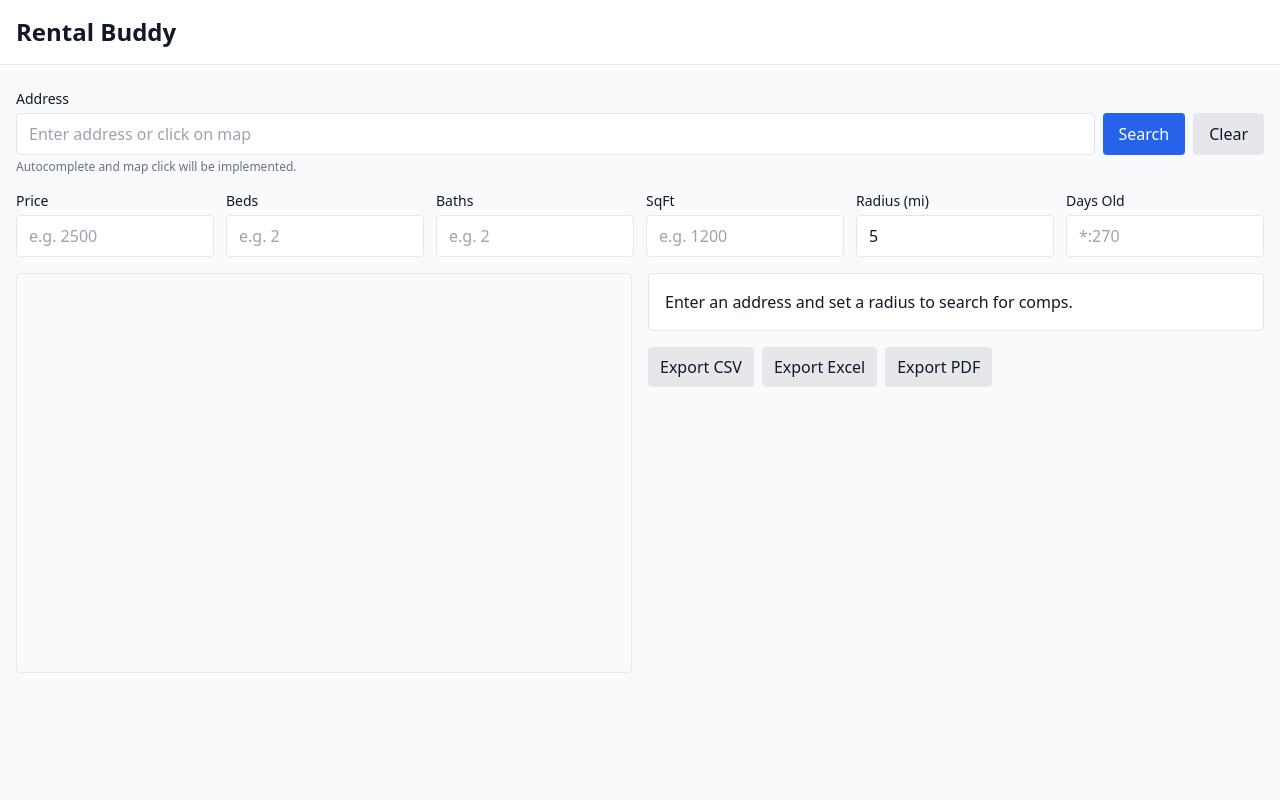
Test: shows empty state when API returns no comps
Type "nowhere" into the field labelled "Address" at [555, 134], box [16,113,1094,155]
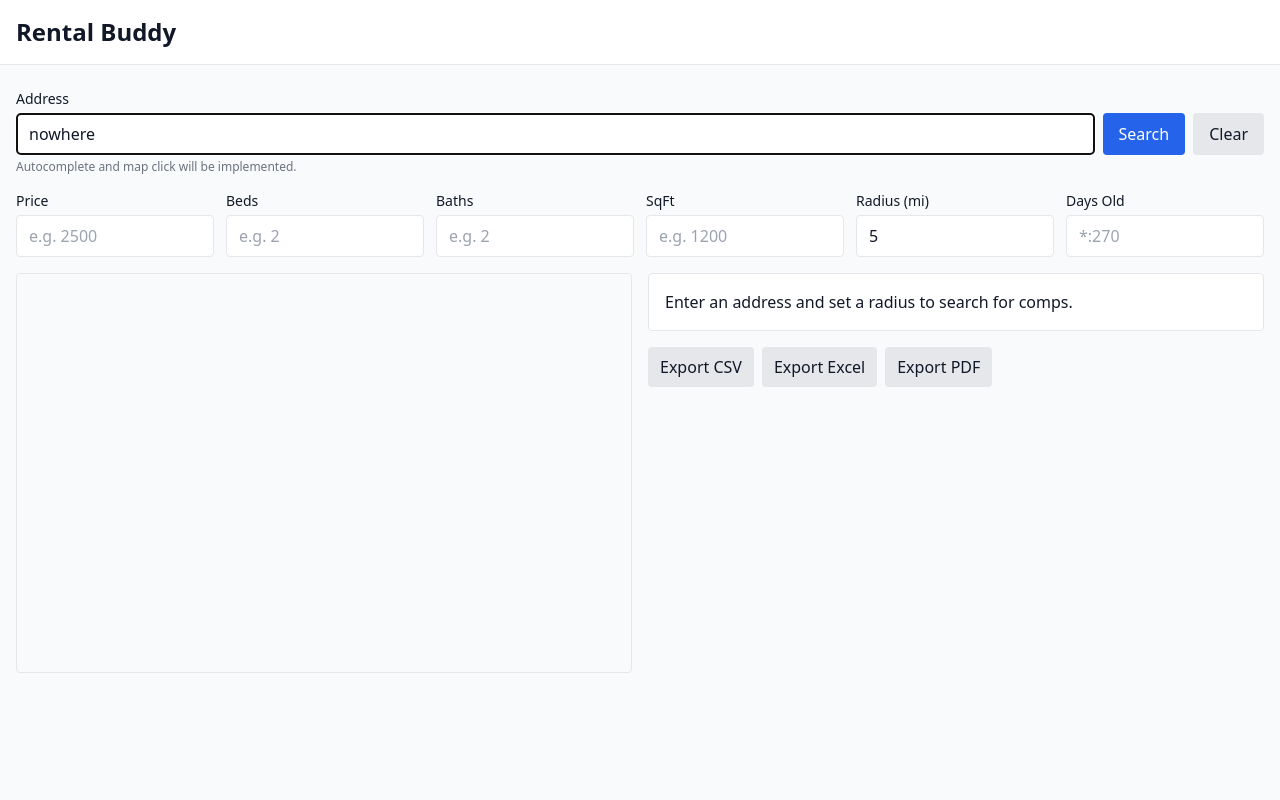
Click the button "Search" at [1144, 134], box [1102,113,1185,155]
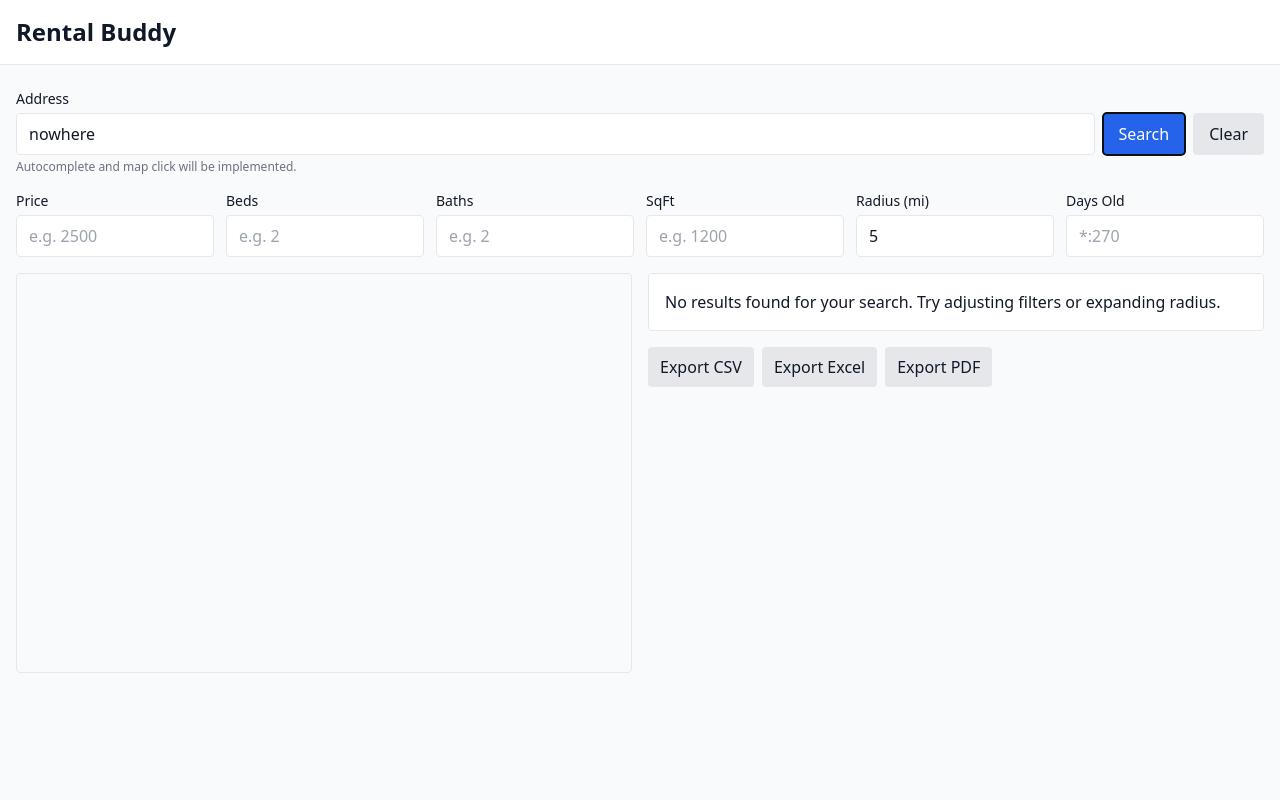
Expected: the text "No results found" is shown, [665,291,1220,313]
